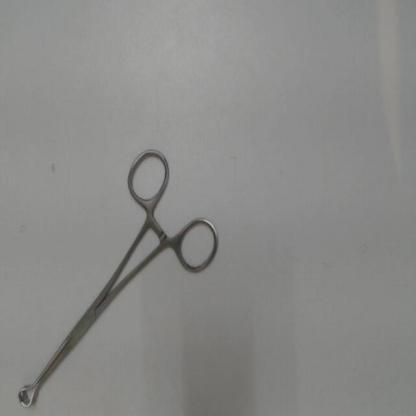Babcock Tissue Forceps: (16, 143, 222, 413)
